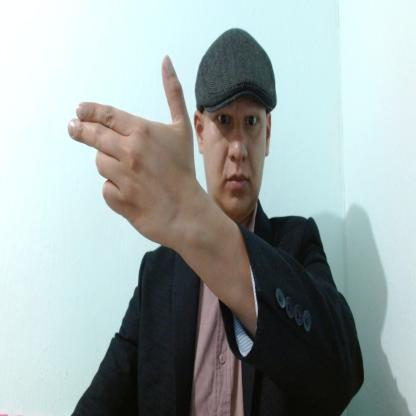H: (68, 55, 196, 246)
